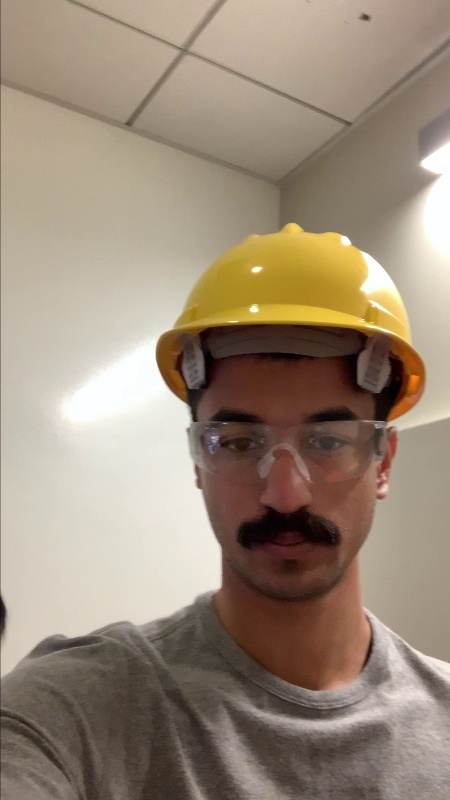glasses: (182, 402, 401, 497)
helmet: (145, 216, 434, 390)
